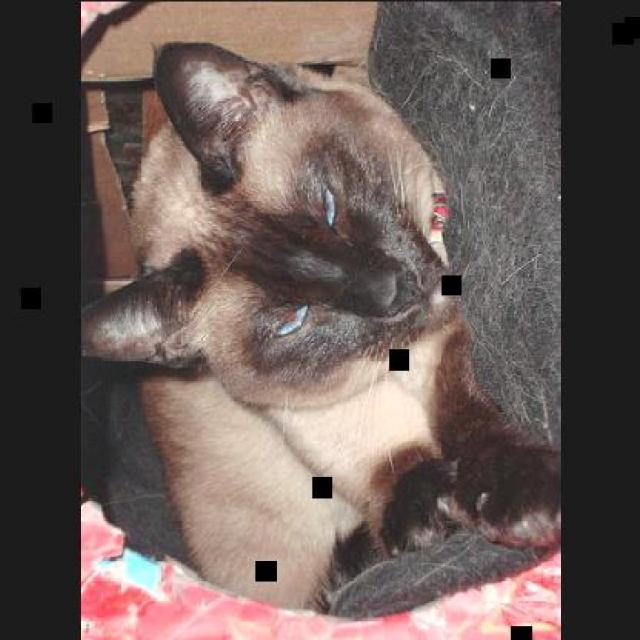unauthorized: (79, 38, 558, 617)
